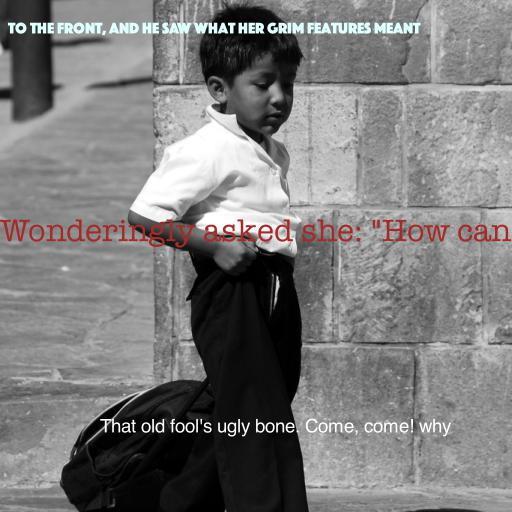American Typewriter: (0, 219, 511, 248)
Big Caslon: (99, 418, 451, 437)
Phosphate: (8, 22, 420, 36)
